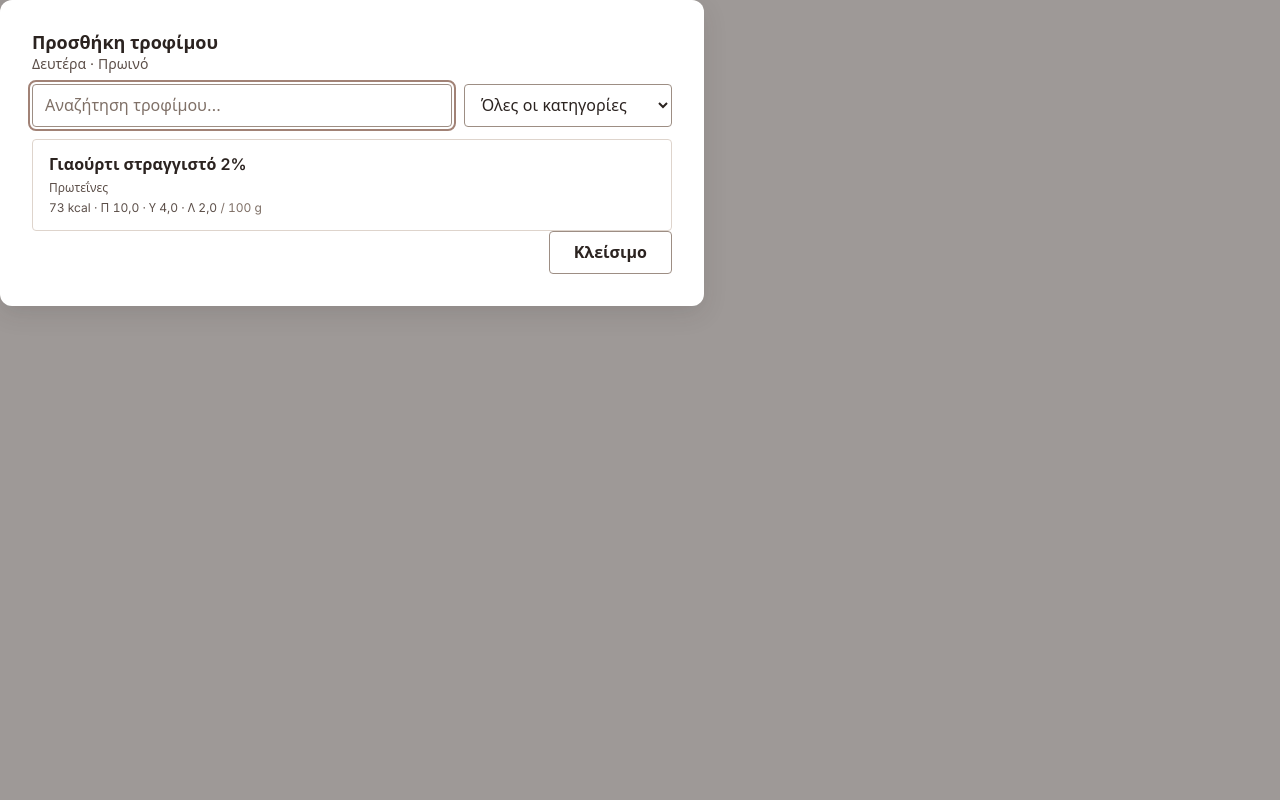
Test: AddFoodDialog › should preselect the food default portion
The image size is (1280, 800).
Click the text "Γιαούρτι στραγγιστό 2%" at (148, 164), box left=49, top=154, right=246, bottom=174
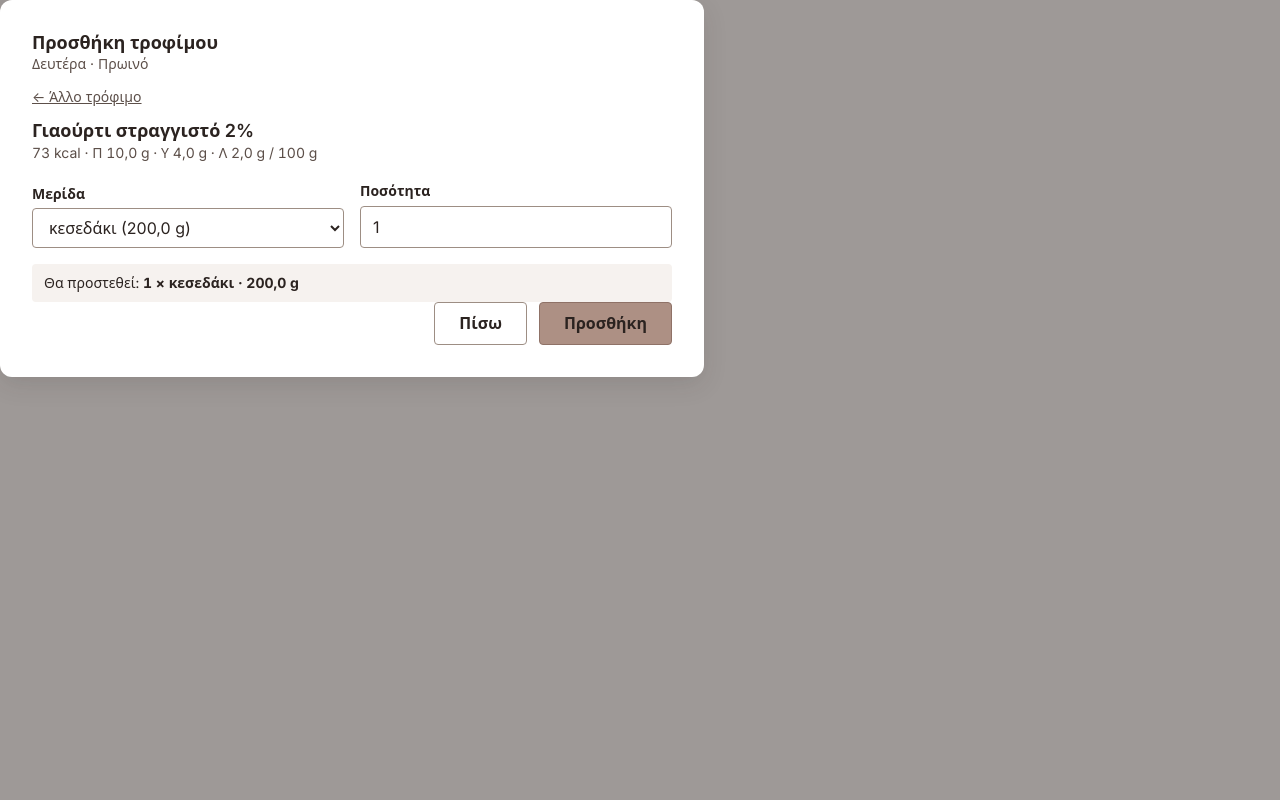
Now the dropdown labelled "Μερίδα" shows "κεσεδάκι (200,0 g)", box left=32, top=208, right=344, bottom=248
